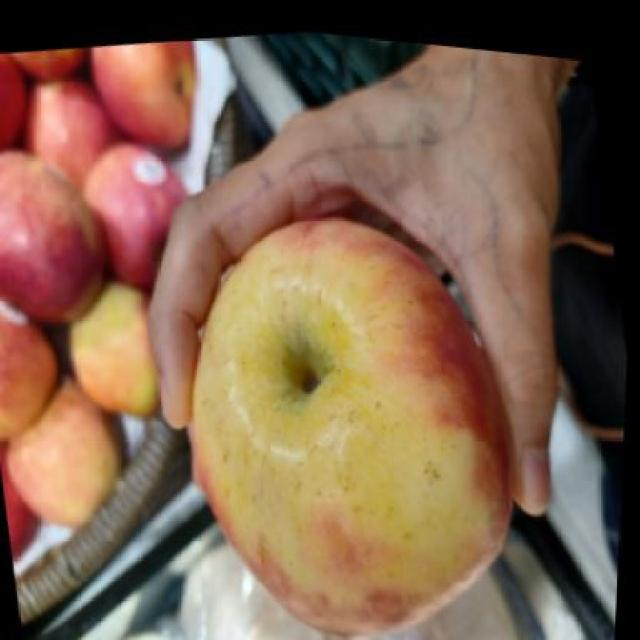Fresh Apple: (202, 243, 526, 626)
